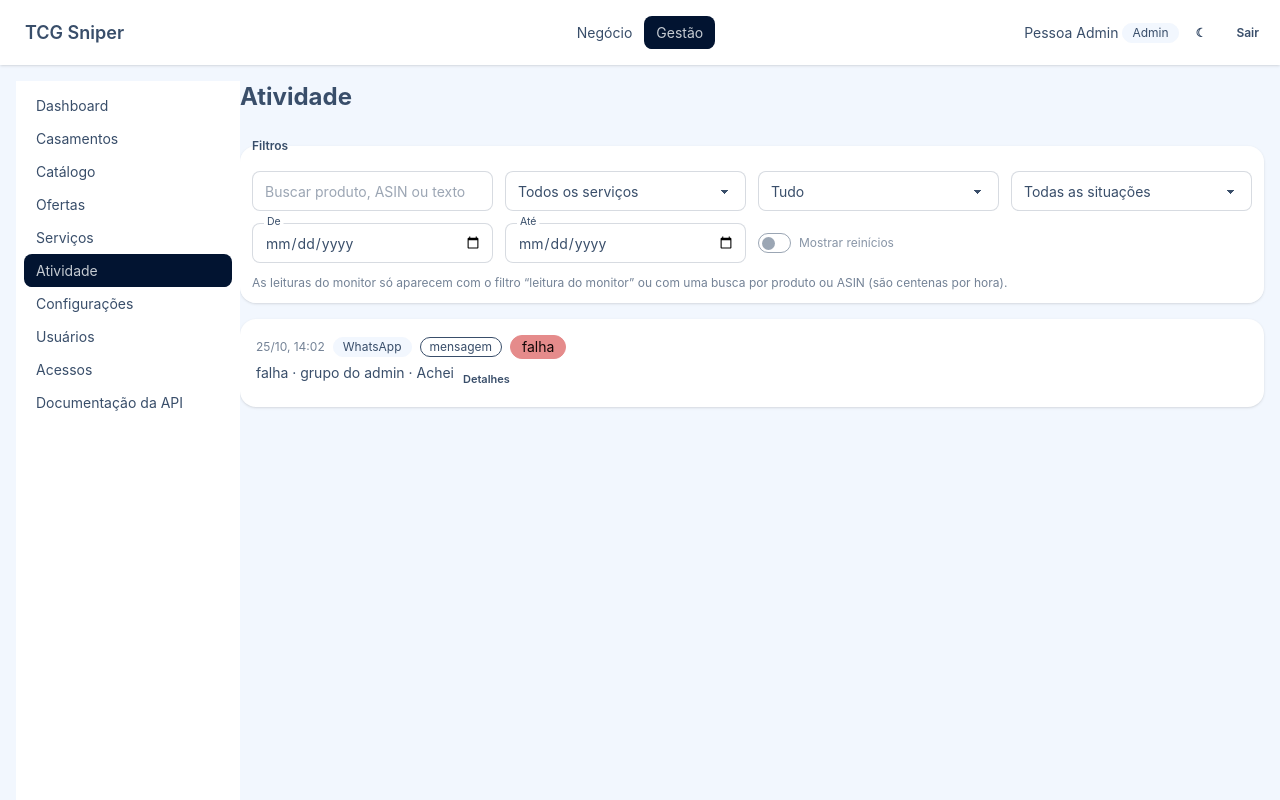
Test: Atividade › Reenviar atualiza o status no lugar; sem a permissão não há botões
Click the button "Detalhes" at (486,379), box [454, 367, 519, 391]
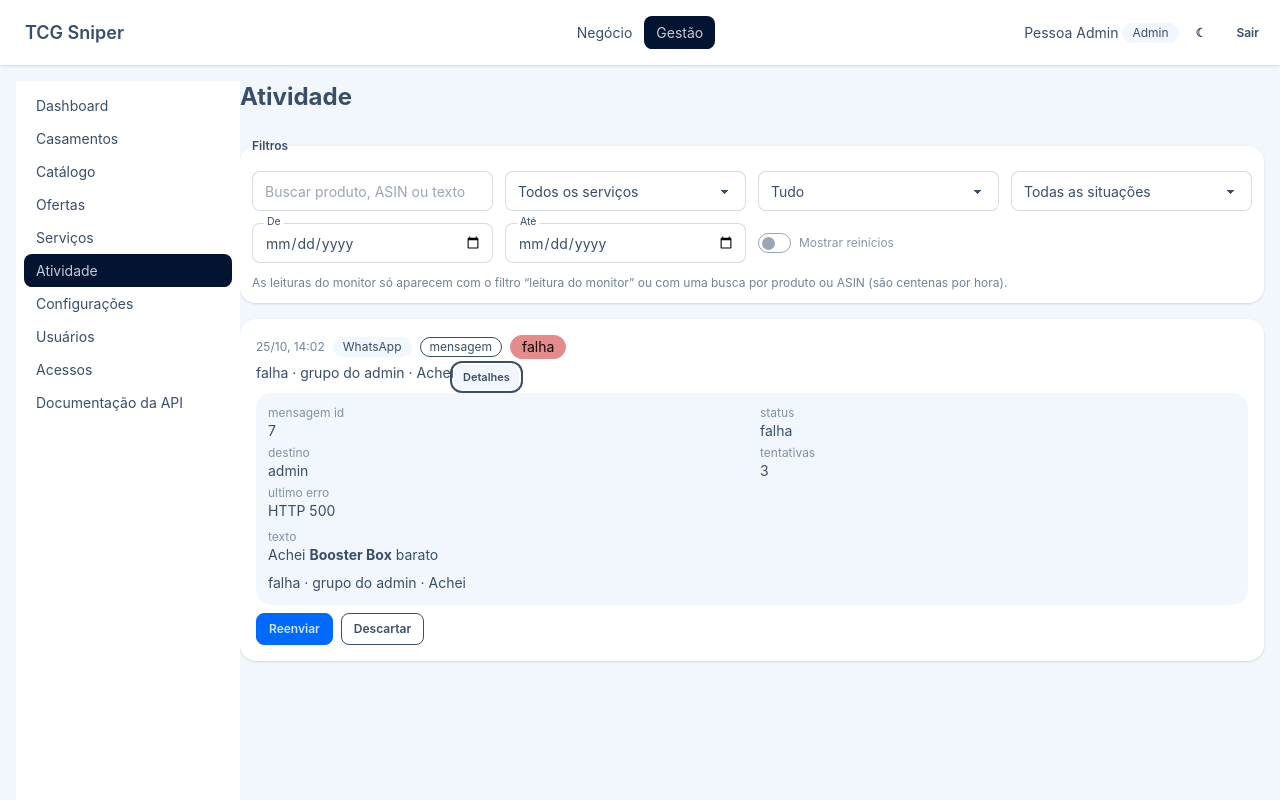
Click the button "Reenviar" at (294,629), box [256, 613, 333, 645]
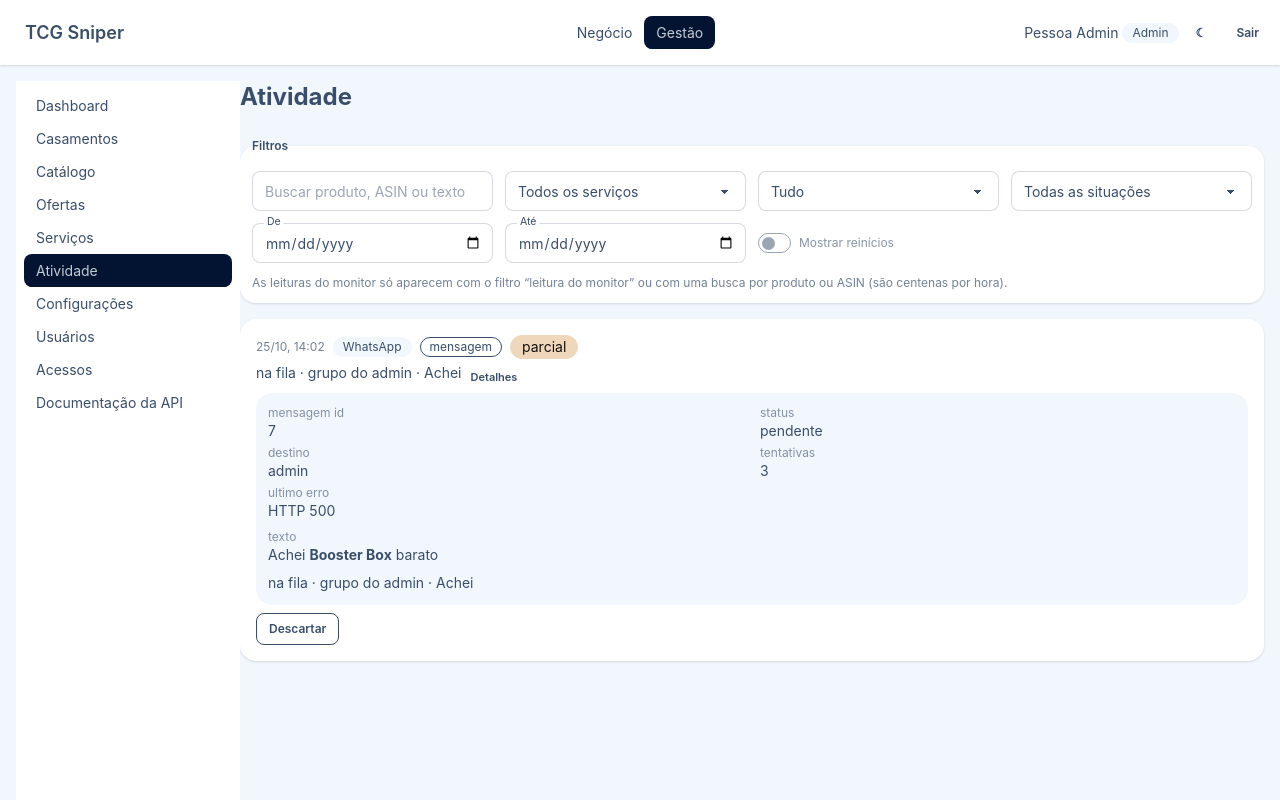
Now the text "pendente" is shown, box [760, 422, 823, 439]
Now the button "Reenviar" is gone
